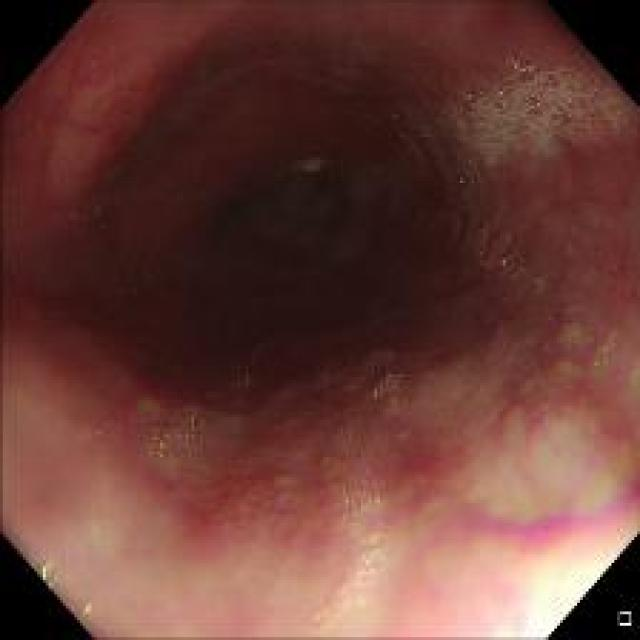bubbles: (429, 60, 624, 170), (325, 428, 384, 619), (129, 401, 210, 468), (352, 340, 404, 404), (589, 328, 620, 378), (90, 424, 112, 446), (568, 332, 580, 350)
color misalignment: (349, 468, 382, 582), (148, 409, 175, 466), (32, 552, 61, 589), (372, 369, 399, 395), (362, 351, 401, 364), (509, 59, 535, 75), (240, 368, 256, 390), (79, 598, 95, 618)
contrast: (149, 89, 435, 338)
saturation: (489, 488, 625, 630)
